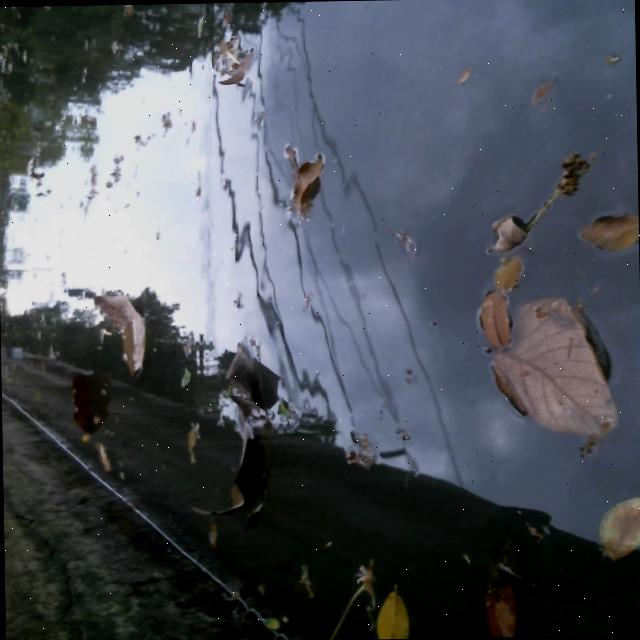Big-leaf: (512, 295, 630, 473), (166, 422, 295, 524), (91, 287, 159, 381), (217, 342, 288, 426), (75, 374, 114, 438)
Small-leaf: (469, 532, 541, 637), (199, 22, 273, 107), (271, 145, 339, 229), (526, 141, 590, 211), (324, 558, 374, 640), (587, 495, 640, 570), (462, 287, 516, 353), (572, 208, 639, 259), (338, 428, 398, 477), (480, 212, 536, 252), (374, 589, 417, 639), (86, 440, 130, 486), (485, 253, 535, 292), (388, 225, 432, 268), (285, 558, 323, 603), (175, 427, 208, 466), (525, 77, 556, 117), (77, 170, 106, 212), (23, 152, 53, 192), (199, 516, 227, 556), (451, 62, 487, 91), (261, 608, 294, 628)
